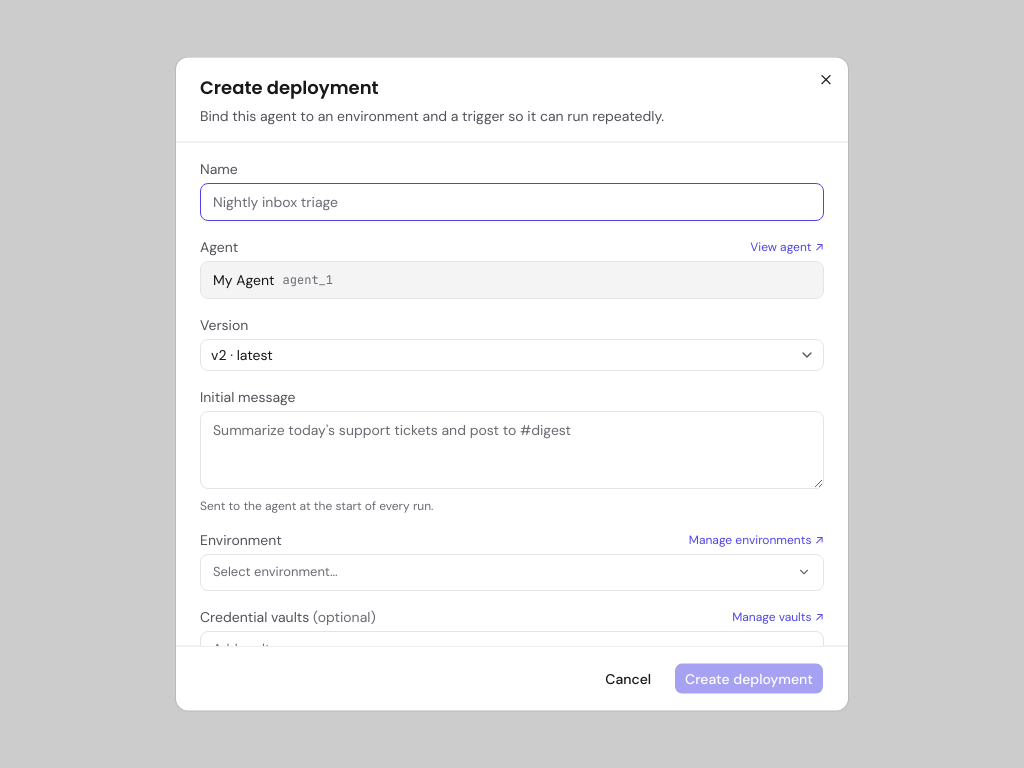
Test: <CreateDeploymentDialog /> › surfaces the webhook URL after creating a webhook deployment
This screenshot has width=1024, height=768.
Type "Nightly triage" into the field with placeholder "Nightly inbox triage" at (512, 202), box [200,183,824,221]
Type "Do the thing" into the text box with placeholder "Summarize today's support tickets and post to #digest" at (512, 450), box [200,411,824,489]
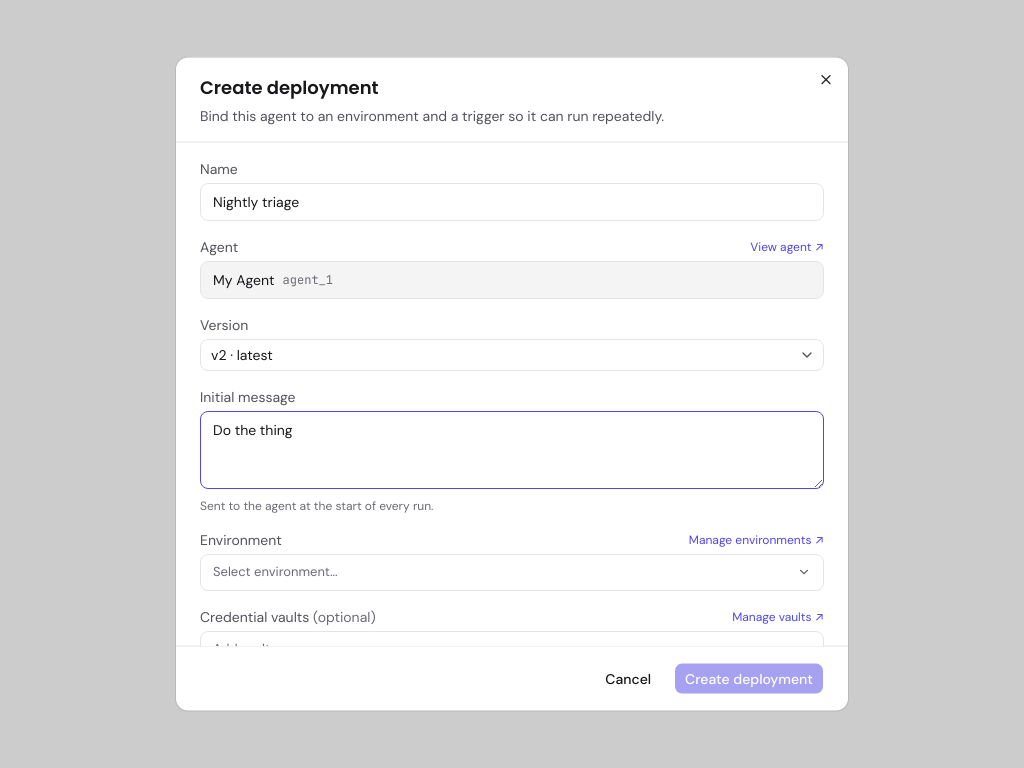
Click the dropdown "Select environment..." at (275, 571), box [200,554,824,590]
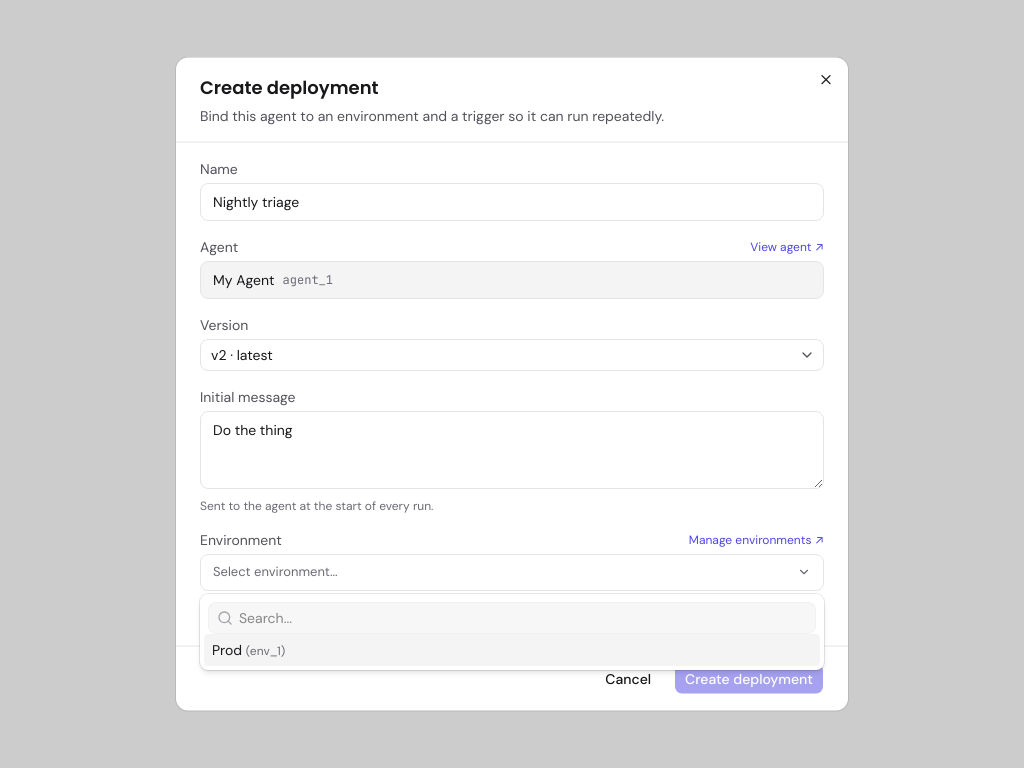
Expected: the text "Prod" is shown, [212,641,242,659]
Click the option "Prod (env_1)" at (227, 650), box [204,634,820,666]
(page scrolled)
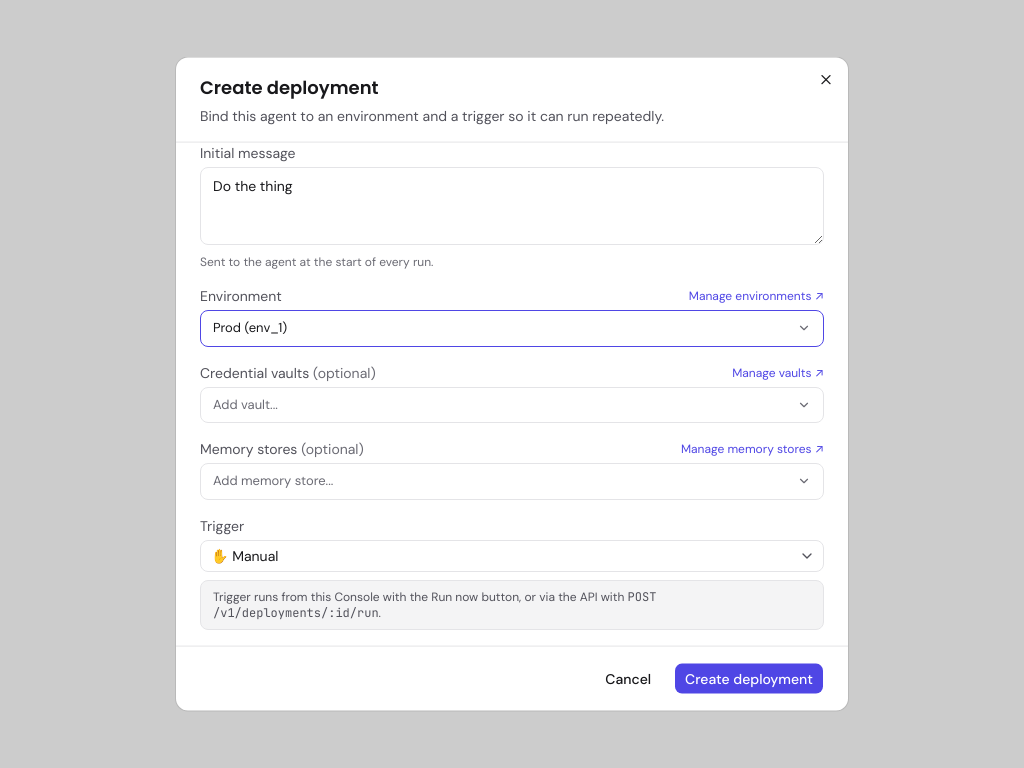
Click the dropdown named "Select trigger" at (245, 555), box [200,539,824,571]
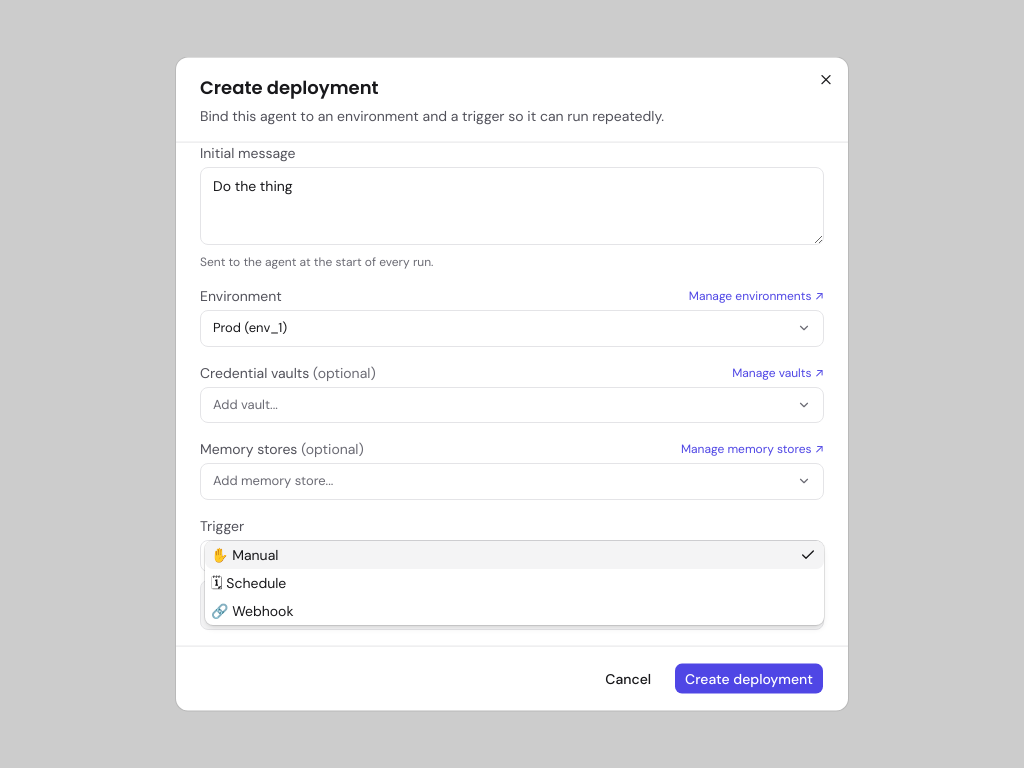
Click the option "🔗 Webhook" at (252, 611), box [211,602,294,620]
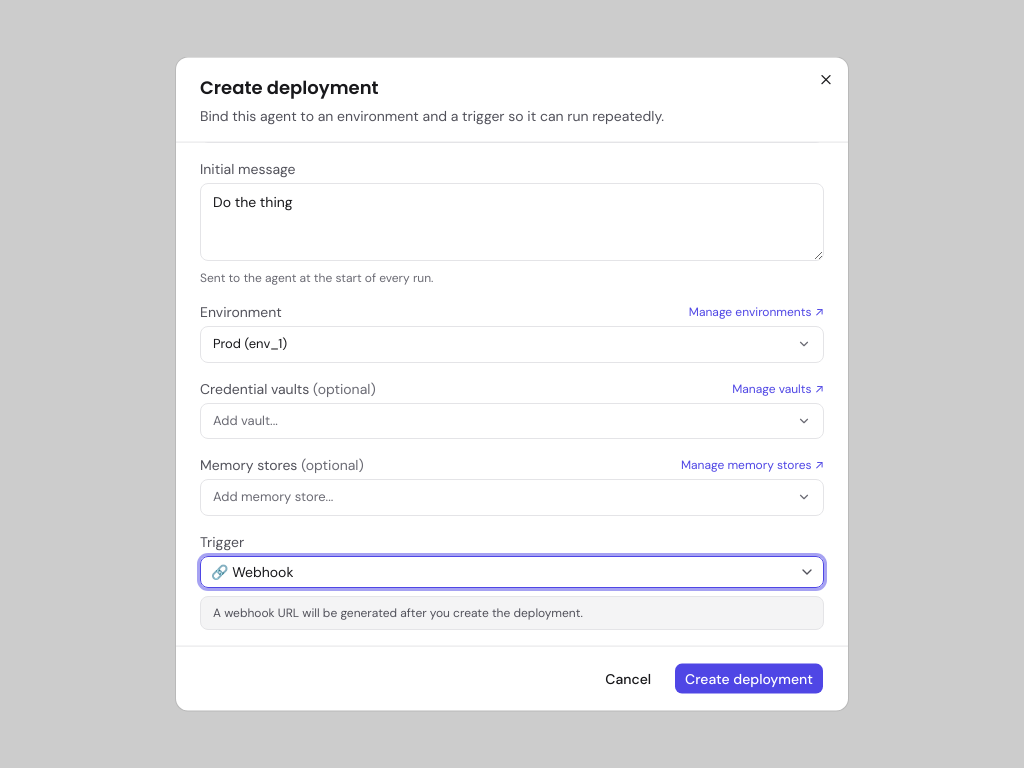
Click the button "Create deployment" at (749, 678), box [674,662,824,694]
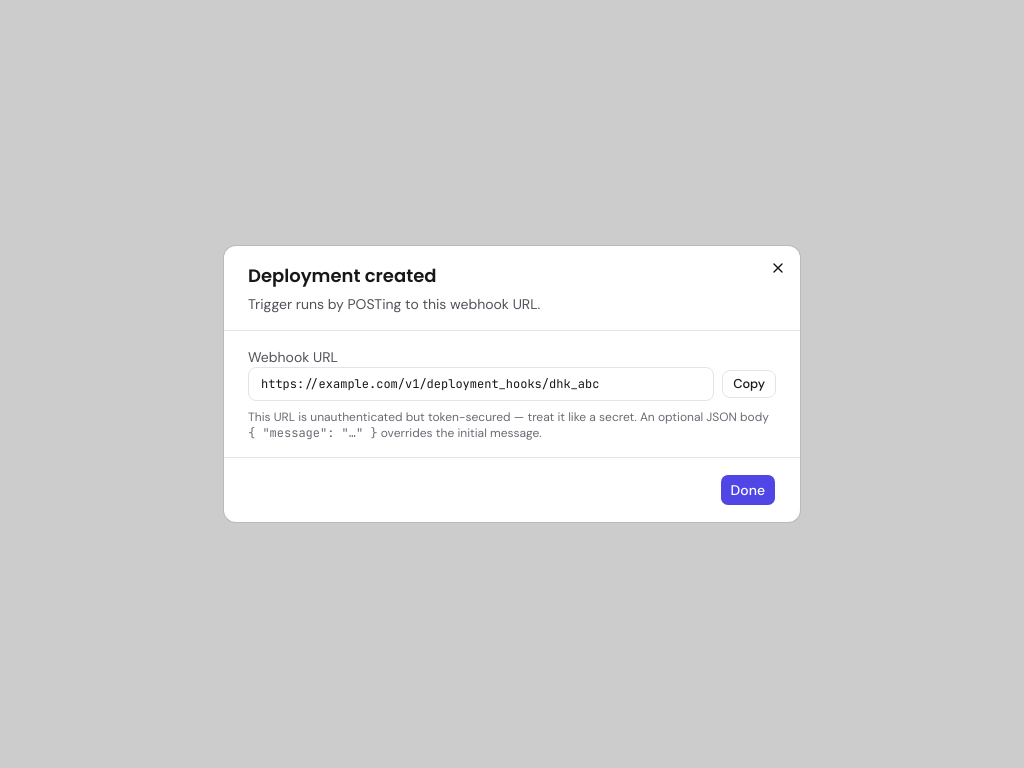
Expected: the field showing "https://example.com/v1/deployment_hooks/dhk_abc" is shown, [248,367,714,401]
